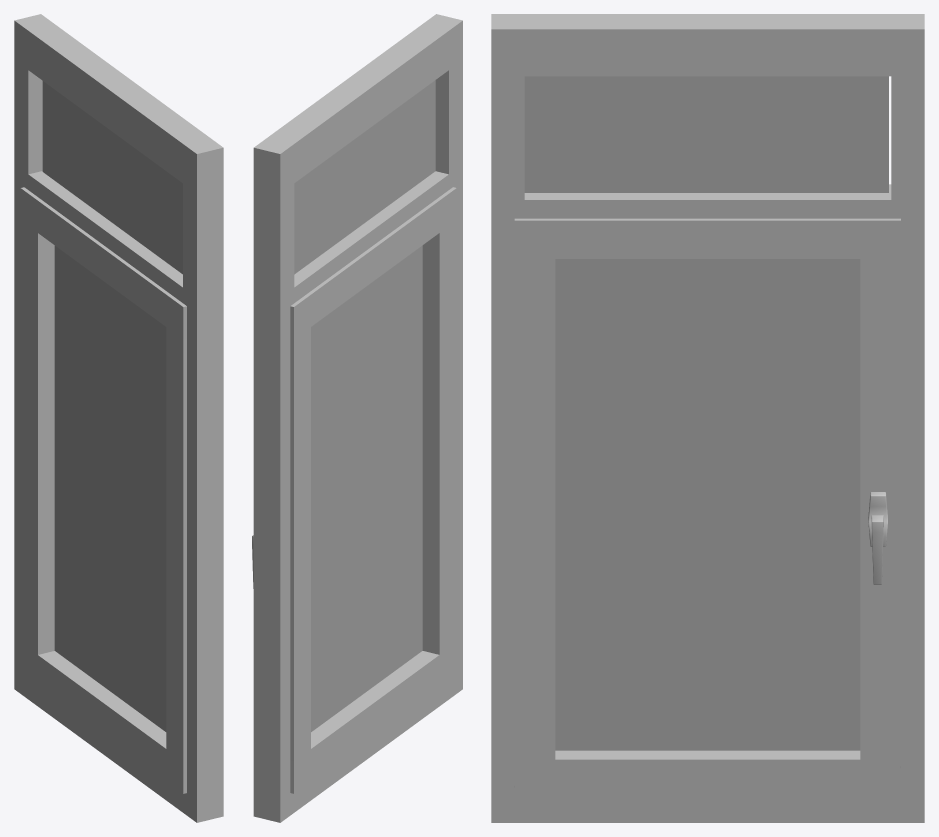
The model's file is WindowTall.obj.
The picture shows the model from 3 angles, left to right: view 1: azimuth 30°, elevation 25°; view 2: azimuth 150°, elevation 25°; view 3: azimuth 270°, elevation 25°; orthographic projection. The views are drawn at different scales.
Parts seen in each view (by area): view 1: OuterFrameWT, WindowLowerWT, InnerFrameWT, WindowUpperWT; view 2: OuterFrameWT, WindowLowerWT, InnerFrameWT, WindowUpperWT; view 3: WindowLowerWT, OuterFrameWT, InnerFrameWT, WindowUpperWT, HandleWT.
Boxes of the visible parts, x1=… form: OuterFrameWT: x1=14, y1=14, x2=223, y2=822; WindowLowerWT: x1=54, y1=245, x2=166, y2=731; InnerFrameWT: x1=20, y1=187, x2=186, y2=793; WindowUpperWT: x1=42, y1=81, x2=182, y2=274; OuterFrameWT: x1=253, y1=14, x2=462, y2=822; WindowLowerWT: x1=311, y1=245, x2=422, y2=731; InnerFrameWT: x1=290, y1=187, x2=456, y2=793; WindowUpperWT: x1=294, y1=80, x2=435, y2=274; WindowLowerWT: x1=555, y1=259, x2=860, y2=750; OuterFrameWT: x1=491, y1=14, x2=924, y2=822; InnerFrameWT: x1=514, y1=218, x2=900, y2=797; WindowUpperWT: x1=524, y1=76, x2=888, y2=192; HandleWT: x1=871, y1=515, x2=883, y2=584.
Size of the model in its own units: 2.14 by 27.64 by 13.68.
6 materials, 2 textured.
